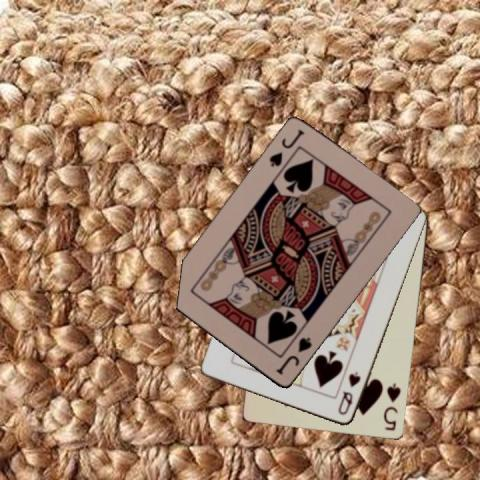5s: (380, 380, 403, 433)
Js: (273, 334, 313, 377), (266, 126, 306, 169)
Qs: (334, 369, 362, 417)
